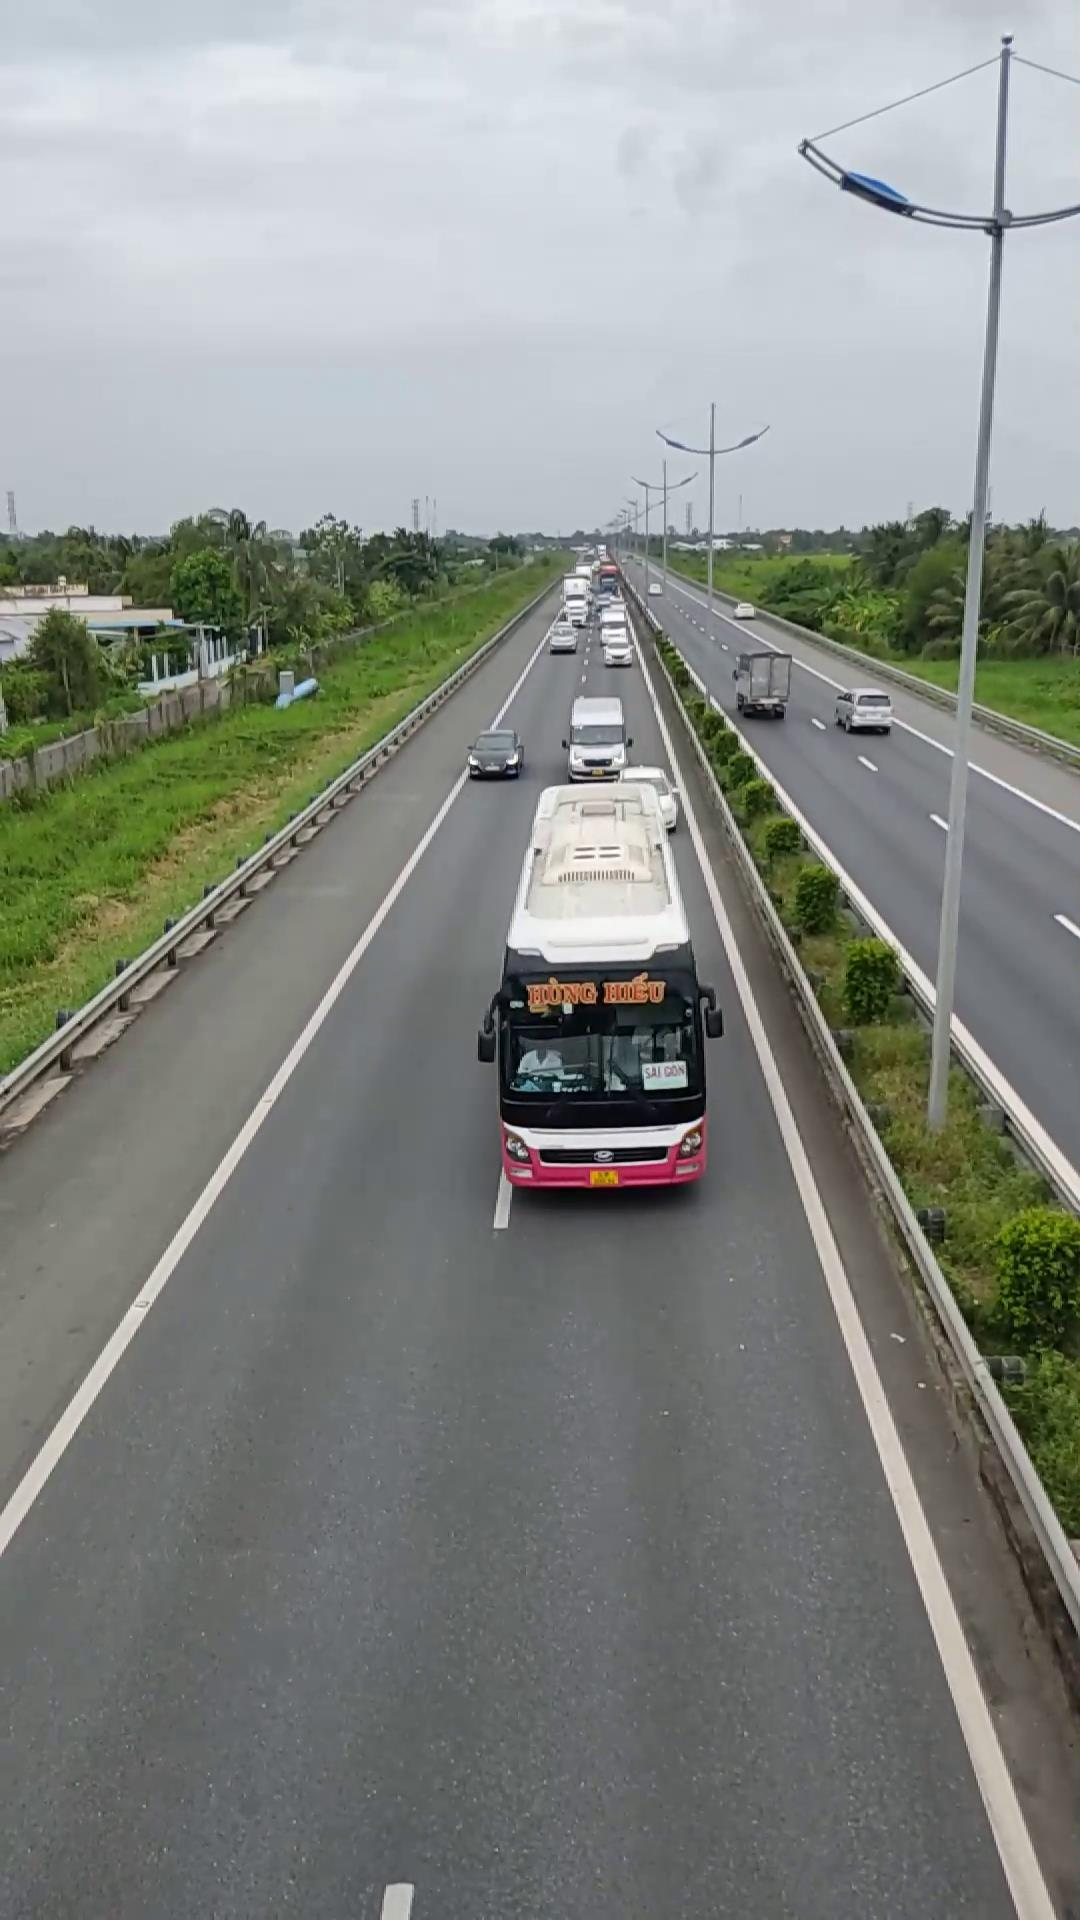bus: (477, 770, 720, 1196)
truck: (731, 646, 790, 717)
